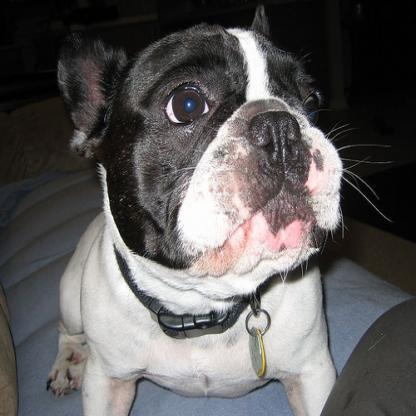French_bulldog: (41, 0, 390, 413)
